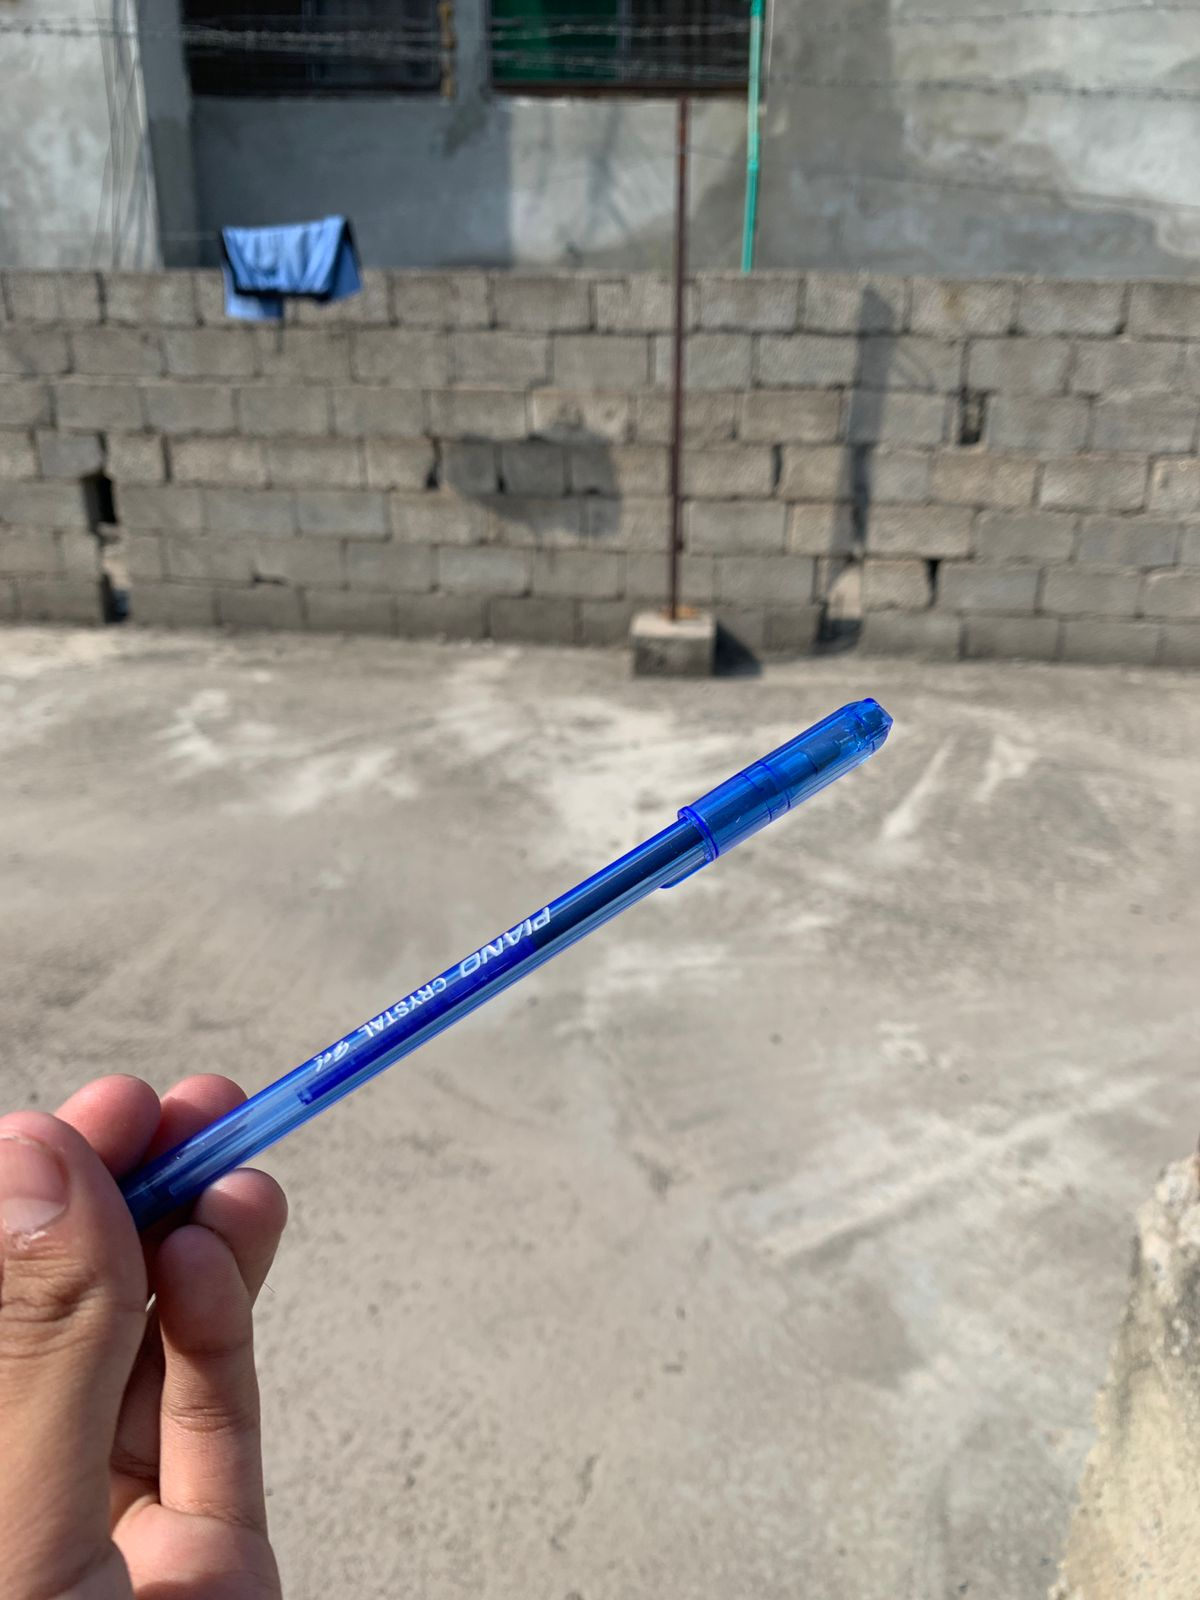pen: (93, 650, 974, 1241)
